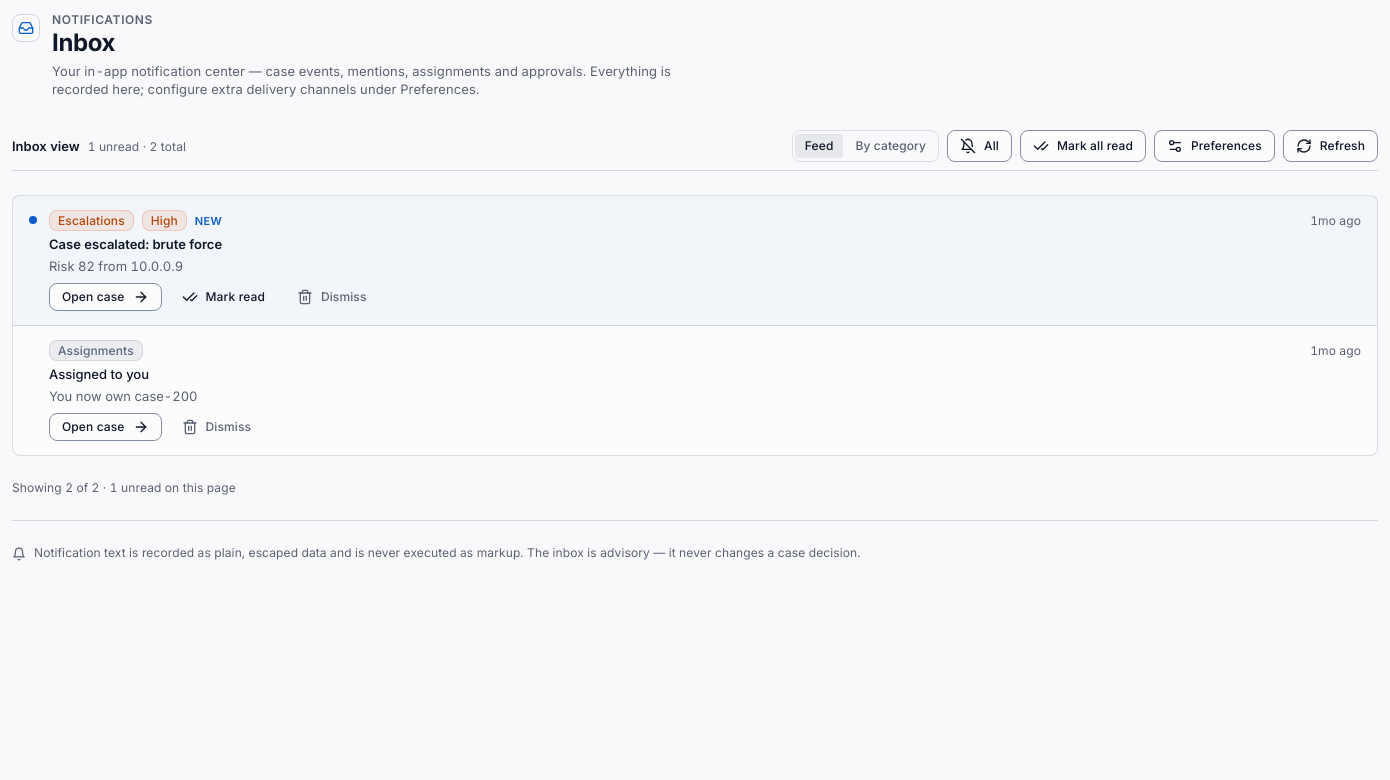
Test: Inbox page (read-state) › marks one item read and dims it in place (all view)
Check: the text "Case escalated: brute force" is shown, box top-left (49, 236), bottom-right (222, 252)
Step 1. Click the button "Mark read" → click(223, 297), box top-left (170, 283), bottom-right (277, 311)
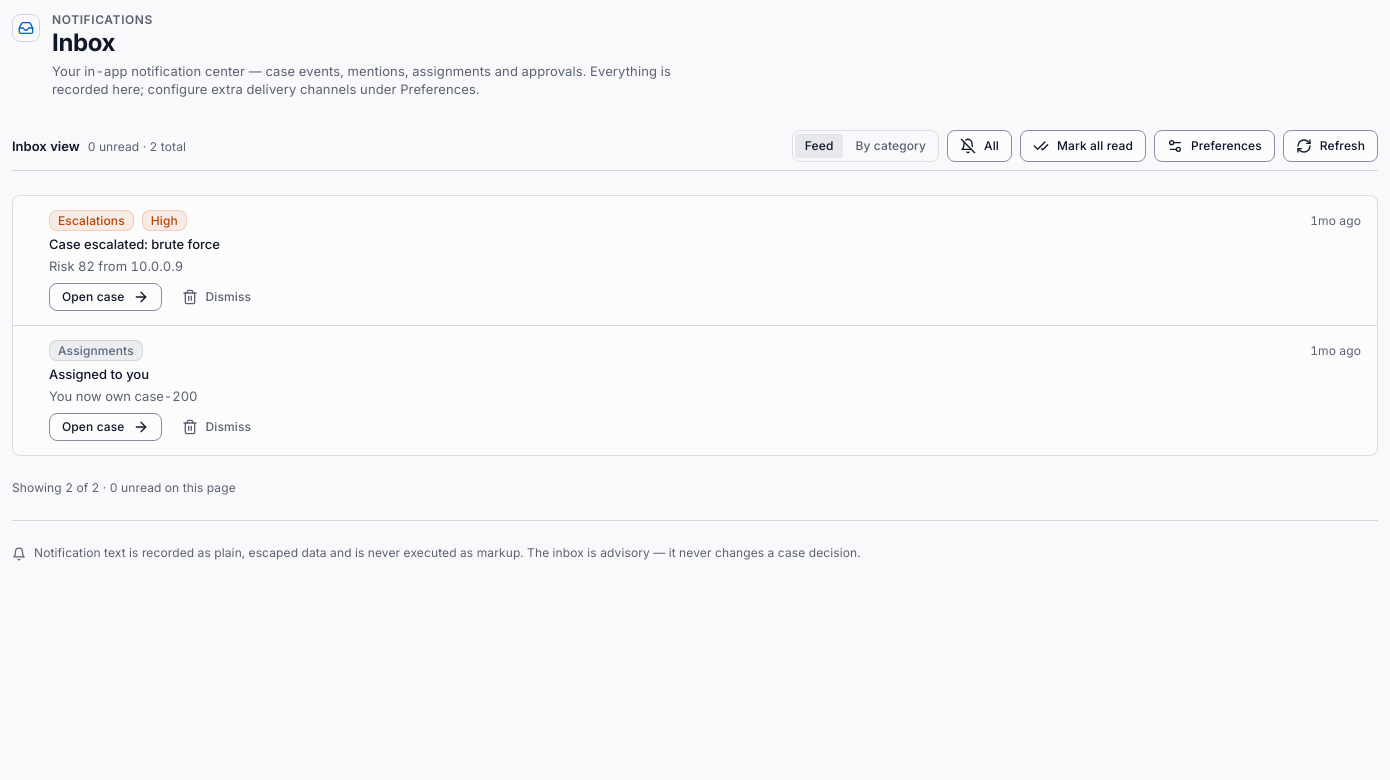
Check: the text "Case escalated: brute force" is shown, box top-left (49, 236), bottom-right (220, 252)
Check: the text "New" is gone
